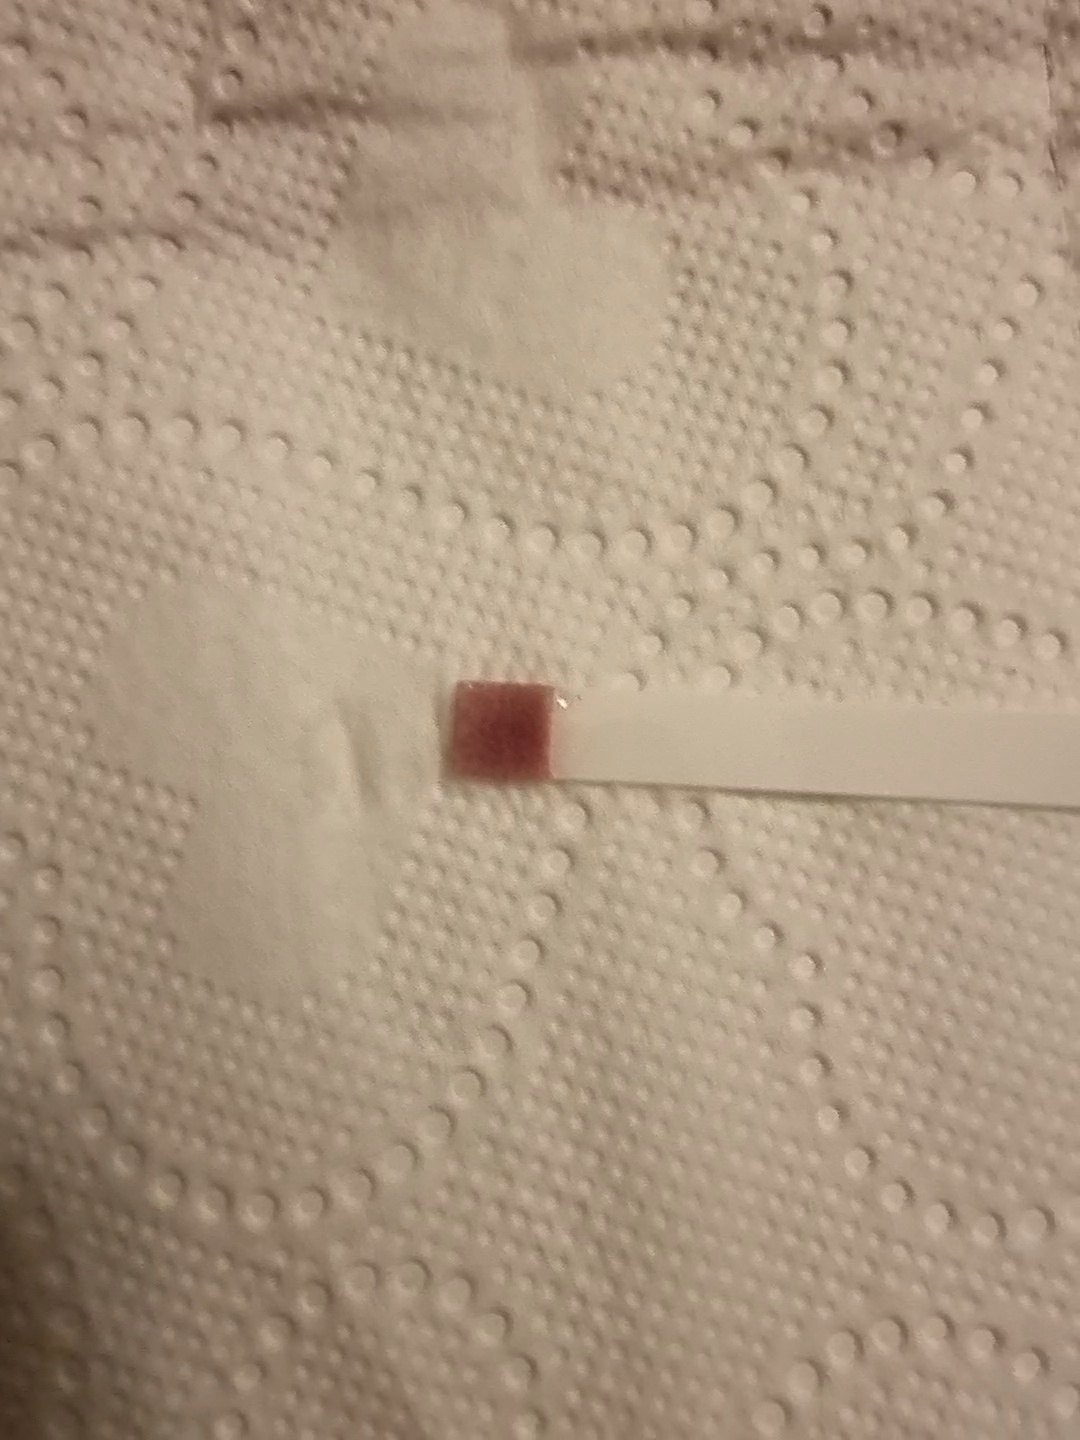keto-tip: (441, 674, 559, 789)
